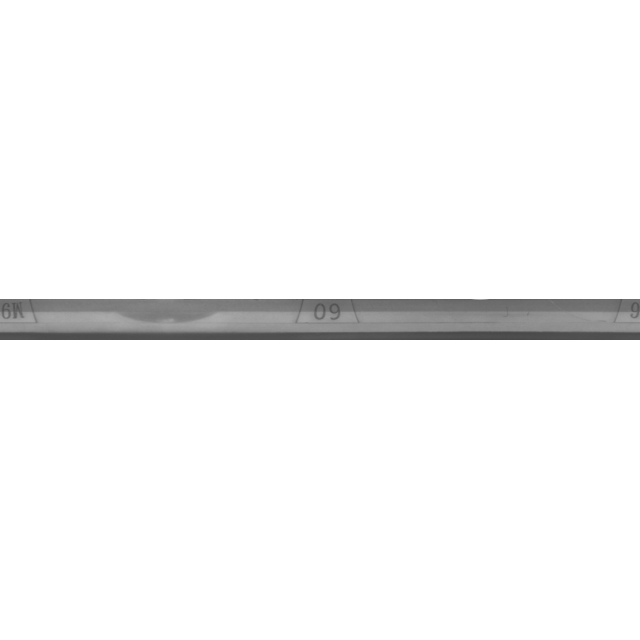mohao: (0, 270, 108, 370)
xuehao: (219, 270, 419, 370)
